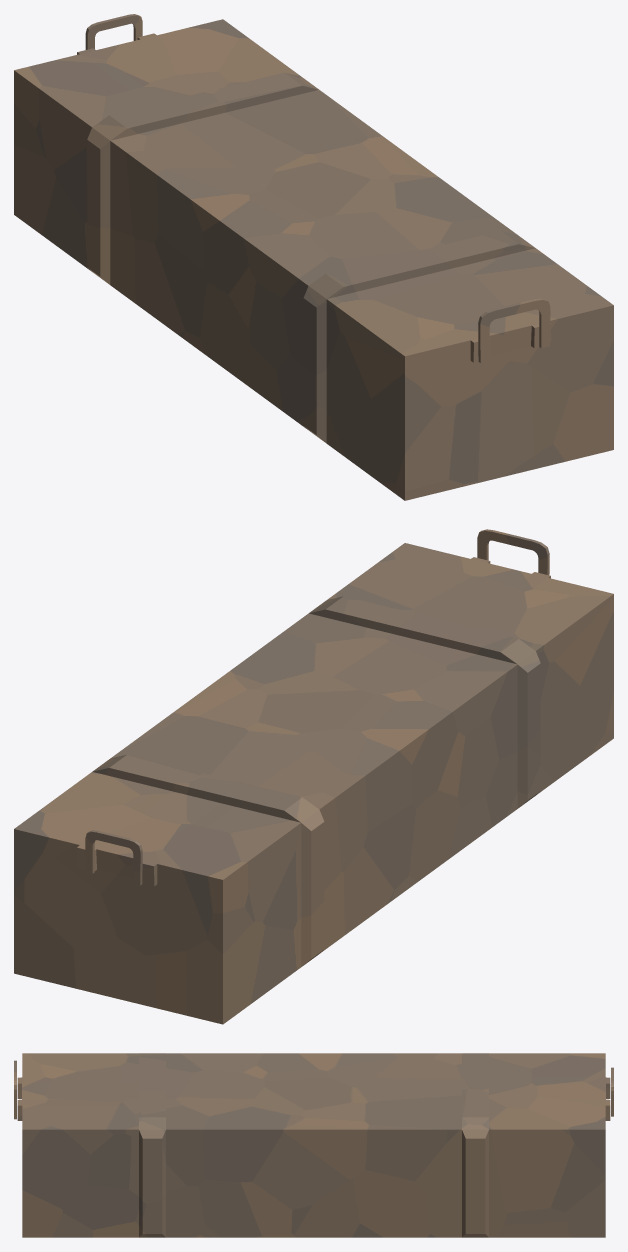
File: Caja3.fbx
3 views of the same model, one above another, from view 1: azimuth 30°, elevation 25°; view 2: azimuth 150°, elevation 25°; view 3: azimuth 270°, elevation 25° (orthographic). The views are drawn at different scales.
Visible parts, largest first — view 1: Caja3; view 2: Caja3; view 3: Caja3.
Boxes of the visible parts, left/top/right/bottom form: Caja3: left=14, top=14, right=613, bottom=500; Caja3: left=14, top=529, right=613, bottom=1024; Caja3: left=14, top=1053, right=613, bottom=1237.
Size of the model in its own units: 48.36 by 35.77 by 150.
1 material, 1 textured.
